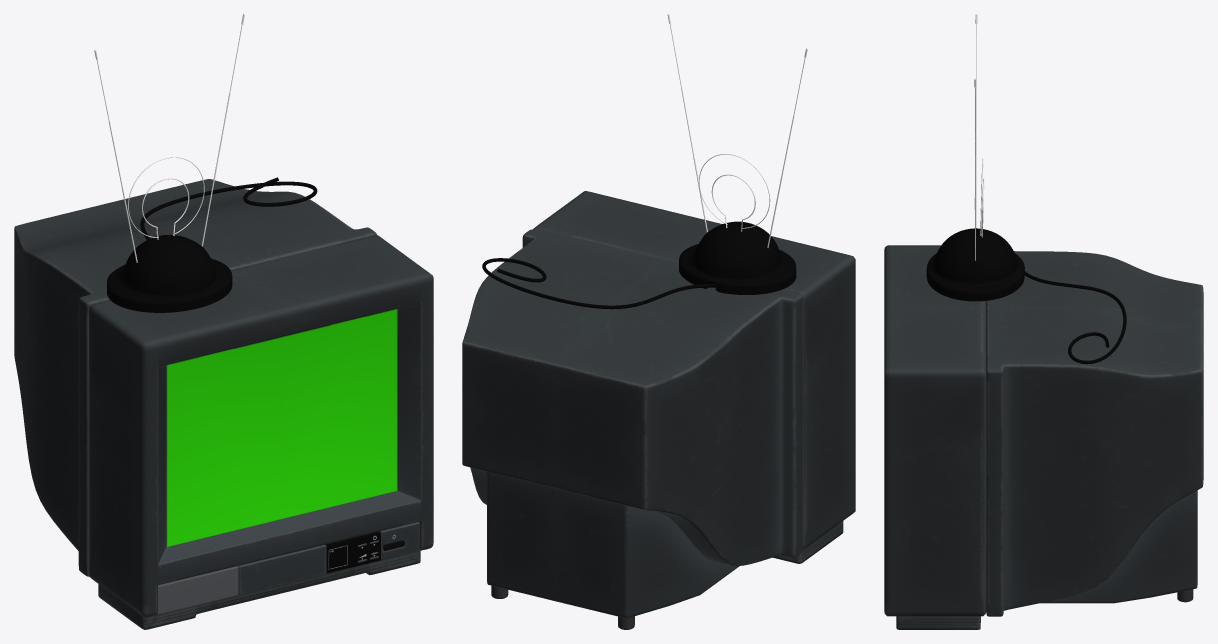
File: dipol.gltf
3 renders of one model, left to right at view 1: azimuth 30°, elevation 25°; view 2: azimuth 150°, elevation 25°; view 3: azimuth 270°, elevation 25°, orthographic. The views are drawn at different scales.
Parts seen in each view (by area): view 1: Cube.006_ID map_0, Cube.010__0, Cube.007__0, Sphere.003, Cube.009__0, NurbsPath.037, Cylinder.129; view 2: Cube.010__0, Cube.011__0, Cube.006_ID map_0, Sphere.003, NurbsPath.037, Cylinder.129, Cube.009__0; view 3: Cube.010__0, Cube.006_ID map_0, Cube.011__0, Sphere.003, Cube.009__0, NurbsPath.037.
Part boxes in pixels (x1,y1,x2,y2): Cube.006_ID map_0: (89,235,433,617); Cube.010__0: (14,179,376,576); Cube.007__0: (157,522,419,614); Sphere.003: (107,234,232,312); Cube.009__0: (98,550,420,629); NurbsPath.037: (140,177,317,239); Cylinder.129: (94,14,244,262); Cube.010__0: (462,229,802,565); Cube.011__0: (487,471,739,618); Cube.006_ID map_0: (532,191,855,549); Sphere.003: (679,221,796,294); NurbsPath.037: (482,258,715,309); Cylinder.129: (667,14,807,247); Cube.009__0: (773,521,843,563); Cube.010__0: (986,251,1203,616); Cube.006_ID map_0: (884,245,986,616); Cube.011__0: (1040,490,1197,603); Sphere.003: (926,228,1024,301); Cube.009__0: (896,616,980,629); NurbsPath.037: (1024,271,1126,364).
Size of the model in its own units: 3.41 by 6.14 by 3.61.
Materials: 5 (2 with a texture image).
